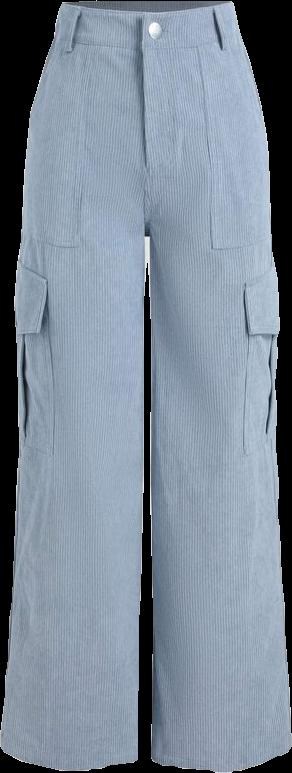Hemline: (148, 738, 291, 772), (0, 740, 138, 772)
Pantleg: (139, 1, 291, 771), (0, 0, 147, 770)
Waistline: (50, 29, 245, 48), (60, 0, 236, 13)
